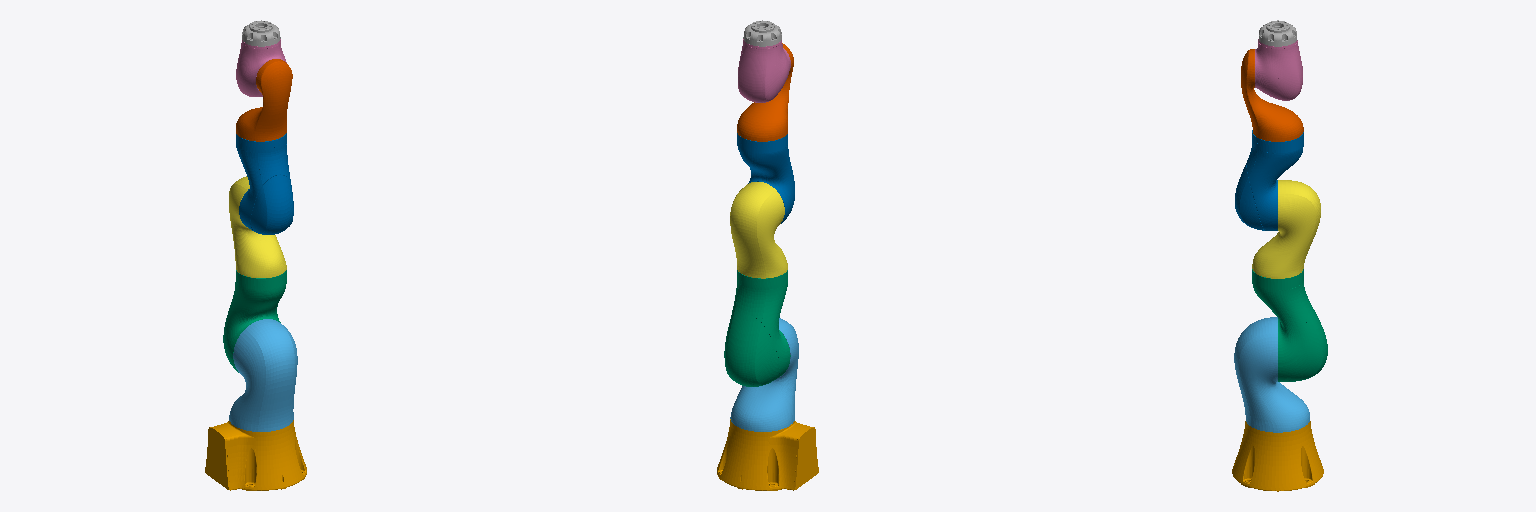
The robot description file, URDF, robot "iiwa14":
<?xml version="1.0" encoding="utf-8"?>
<robot name="iiwa14">
  <link name="link_0">
    <inertial>
      <origin rpy="0 0 0" xyz="-0.012822 0.0 0.071507"/>
      <mass value="7.050378"/>
      <inertia ixx="0.031226" ixy="0.0" ixz="0.000871" iyy="0.039697" iyz="0.0" izz="0.043102"/>
    </inertial>
    <visual>
      <origin rpy="0 0 0" xyz="0 0 0"/>
      <geometry>
        <mesh filename="meshes/visual/link_0.obj"/>
      </geometry>
    </visual>
    <collision>
      <origin rpy="0 0 0" xyz="0 0 0"/>
      <geometry>
        <mesh filename="meshes/collision/link_0.obj"/>
      </geometry>
    </collision>
  </link>
  <joint name="A1" type="revolute">
    <origin rpy="0 0 0" xyz="0.0 0.0 0.1475"/>
    <parent link="link_0"/>
    <child link="link_1"/>
    <axis xyz="0.0 0.0 1.0"/>
    <limit effort="200" lower="-2.96705972839" upper="2.96705972839" velocity="1.4835298642"/>
    <dynamics damping="10.0" friction="0.1"/>
  </joint>
  <link name="link_1">
    <inertial>
      <origin rpy="0 0 0" xyz="0.0 -0.033795 0.132404"/>
      <mass value="5.289529"/>
      <inertia ixx="0.042462" ixy="0.0" ixz="0.0" iyy="0.042838" iyz="0.006341" izz="0.01587"/>
    </inertial>
    <visual>
      <origin rpy="0 0 0" xyz="0.0 0.0 -0.1475"/>
      <geometry>
        <mesh filename="meshes/visual/link_1.obj"/>
      </geometry>
    </visual>
    <collision>
      <origin rpy="0 0 0" xyz="0.0 0.0 -0.1475"/>
      <geometry>
        <mesh filename="meshes/collision/link_1.obj"/>
      </geometry>
    </collision>
  </link>
  <joint name="A2" type="revolute">
    <origin rpy="0 0 0" xyz="0.0 -0.01 0.2125"/>
    <parent link="link_1"/>
    <child link="link_2"/>
    <axis xyz="0.0 1.0 0.0"/>
    <limit effort="200" lower="-2.09439510239" upper="2.09439510239" velocity="1.4835298642"/>
    <dynamics damping="10.0" friction="0.1"/>
  </joint>
  <link name="link_2">
    <inertial>
      <origin rpy="0 0 0" xyz="0.000136 0.047548 0.076322"/>
      <mass value="5.688888"/>
      <inertia ixx="0.055182" ixy="-3.3e-05" ixz="5.6e-05" iyy="0.053983" iyz="0.010034" izz="0.016523"/>
    </inertial>
    <visual>
      <origin rpy="0 0 0" xyz="0.0 0.01 -0.36"/>
      <geometry>
        <mesh filename="meshes/visual/link_2.obj"/>
      </geometry>
    </visual>
    <collision>
      <origin rpy="0 0 0" xyz="0.0 0.01 -0.36"/>
      <geometry>
        <mesh filename="meshes/collision/link_2.obj"/>
      </geometry>
    </collision>
  </link>
  <joint name="A3" type="revolute">
    <origin rpy="0 0 0" xyz="0.0 0.01 0.228"/>
    <parent link="link_2"/>
    <child link="link_3"/>
    <axis xyz="0.0 0.0 1.0"/>
    <limit effort="200" lower="-2.96705972839" upper="2.96705972839" velocity="1.74532925199"/>
    <dynamics damping="10.0" friction="0.1"/>
  </joint>
  <link name="link_3">
    <inertial>
      <origin rpy="0 0 0" xyz="0.0 0.034913 0.123108"/>
      <mass value="3.461245"/>
      <inertia ixx="0.02172" ixy="0.0" ixz="0.0" iyy="0.02073" iyz="-0.003845" izz="0.007701"/>
    </inertial>
    <visual>
      <origin rpy="0 0 0" xyz="0.0 0.0 -0.588"/>
      <geometry>
        <mesh filename="meshes/visual/link_3.obj"/>
      </geometry>
    </visual>
    <collision>
      <origin rpy="0 0 0" xyz="0.0 0.0 -0.588"/>
      <geometry>
        <mesh filename="meshes/collision/link_3.obj"/>
      </geometry>
    </collision>
  </link>
  <joint name="A4" type="revolute">
    <origin rpy="0 0 0" xyz="0.0 0.0105 0.192"/>
    <parent link="link_3"/>
    <child link="link_4"/>
    <axis xyz="0.0 -1.0 0.0"/>
    <limit effort="200" lower="-2.09439510239" upper="2.09439510239" velocity="1.308996939"/>
    <dynamics damping="10.0" friction="0.1"/>
  </joint>
  <link name="link_4">
    <inertial>
      <origin rpy="0 0 0" xyz="0.0 -0.039793 0.086944"/>
      <mass value="4.122995"/>
      <inertia ixx="0.03241" ixy="0.0" ixz="0.0" iyy="0.030758" iyz="-0.006022" izz="0.009883"/>
    </inertial>
    <visual>
      <origin rpy="0 0 0" xyz="0.0 -0.0105 -0.78"/>
      <geometry>
        <mesh filename="meshes/visual/link_4.obj"/>
      </geometry>
    </visual>
    <collision>
      <origin rpy="0 0 0" xyz="0.0 -0.0105 -0.78"/>
      <geometry>
        <mesh filename="meshes/collision/link_4.obj"/>
      </geometry>
    </collision>
  </link>
  <joint name="A5" type="revolute">
    <origin rpy="0 0 0" xyz="0.0 -0.0105 0.2075"/>
    <parent link="link_4"/>
    <child link="link_5"/>
    <axis xyz="0.0 0.0 1.0"/>
    <limit effort="200" lower="-2.96705972839" upper="2.96705972839" velocity="2.26892802759"/>
    <dynamics damping="10.0" friction="0.1"/>
  </joint>
  <link name="link_5">
    <inertial>
      <origin rpy="0 0 0" xyz="0.0 -0.029824 0.076267"/>
      <mass value="1.563756"/>
      <inertia ixx="0.008677" ixy="0.0" ixz="0.0" iyy="0.007297" iyz="0.002869" izz="0.003935"/>
    </inertial>
    <visual>
      <origin rpy="0 0 0" xyz="0.0 0.0 -0.9875"/>
      <geometry>
        <mesh filename="meshes/visual/link_5.obj"/>
      </geometry>
    </visual>
    <collision>
      <origin rpy="0 0 0" xyz="0.0 0.0 -0.9875"/>
      <geometry>
        <mesh filename="meshes/collision/link_5.obj"/>
      </geometry>
    </collision>
  </link>
  <joint name="A6" type="revolute">
    <origin rpy="0 0 0" xyz="0.0 -0.0707 0.1925"/>
    <parent link="link_5"/>
    <child link="link_6"/>
    <axis xyz="0.0 1.0 0.0"/>
    <limit effort="200" lower="-2.09439510239" upper="2.09439510239" velocity="2.35619449019"/>
    <dynamics damping="10.0" friction="0.1"/>
  </joint>
  <link name="link_6">
    <inertial>
      <origin rpy="0 0 0" xyz="0.0 0.07102 0.00495"/>
      <mass value="2.457878"/>
      <inertia ixx="0.007227" ixy="0.0" ixz="0.0" iyy="0.006958" iyz="0.000318" izz="0.004734"/>
    </inertial>
    <visual>
      <origin rpy="0 0 0" xyz="0.0 0.0707 -1.18"/>
      <geometry>
        <mesh filename="meshes/visual/link_6.obj"/>
      </geometry>
    </visual>
    <collision>
      <origin rpy="0 0 0" xyz="0.0 0.0707 -1.18"/>
      <geometry>
        <mesh filename="meshes/collision/link_6.obj"/>
      </geometry>
    </collision>
  </link>
  <joint name="A7" type="revolute">
    <origin rpy="0 0 0" xyz="0.0 0.0707 0.091"/>
    <parent link="link_6"/>
    <child link="link_7"/>
    <axis xyz="0.0 0.0 1.0"/>
    <limit effort="200" lower="-3.05432619099" upper="3.05432619099" velocity="2.35619449019"/>
    <dynamics damping="10.0" friction="0.1"/>
  </joint>
  <link name="link_7">
    <inertial>
      <origin rpy="0 0 0" xyz="3.0000e-06 -2.0000e-06 1.3782e-02"/>
      <mass value="0.265331"/>
      <inertia ixx="0.000175" ixy="0.0" ixz="0.0" iyy="0.000175" iyz="0.0" izz="0.000306"/>
    </inertial>
    <visual>
      <origin rpy="0 0 0" xyz="0.0 0.0 -1.271"/>
      <geometry>
        <mesh filename="meshes/visual/link_7.obj"/>
      </geometry>
    </visual>
    <collision>
      <origin rpy="0 0 0" xyz="0.0 0.0 -1.271"/>
      <geometry>
        <mesh filename="meshes/collision/link_7.obj"/>
      </geometry>
    </collision>
  </link>
  <joint name="joint_ee" type="fixed">
    <parent link="link_7"/>
    <child link="ee_link"/>
    <origin rpy="0 -1.57079 0" xyz="0 0 0.035"/>
  </joint>
  <link name="ee_link"/>
</robot>

--- Render facts (derived) ---
The picture shows the robot from 3 angles, left to right: view 1: azimuth 30°, elevation 25°; view 2: azimuth 150°, elevation 25°; view 3: azimuth 270°, elevation 25°; orthographic projection.
Robot: iiwa14 — 9 links, 8 joints (7 revolute, 1 fixed); root link link_0; default pose: all joints at 0.
Visible links, largest first — view 1: link_1, link_0, link_4, link_5, link_2, link_3, link_6, link_7; view 2: link_2, link_0, link_3, link_1, link_6, link_4, link_5, link_7; view 3: link_1, link_2, link_0, link_3, link_4, link_5, link_6, link_7.
Link boxes in pixels (x1=…): link_1: x1=229, y1=319, x2=297, y2=431; link_0: x1=205, y1=420, x2=306, y2=490; link_4: x1=236, y1=133, x2=293, y2=234; link_5: x1=236, y1=59, x2=292, y2=141; link_2: x1=223, y1=270, x2=286, y2=372; link_3: x1=229, y1=176, x2=286, y2=277; link_6: x1=236, y1=39, x2=286, y2=96; link_7: x1=242, y1=20, x2=280, y2=46; link_2: x1=724, y1=270, x2=790, y2=386; link_0: x1=717, y1=419, x2=818, y2=490; link_3: x1=730, y1=182, x2=787, y2=278; link_1: x1=730, y1=318, x2=798, y2=431; link_6: x1=738, y1=39, x2=790, y2=102; link_4: x1=737, y1=133, x2=794, y2=223; link_5: x1=737, y1=43, x2=793, y2=141; link_7: x1=743, y1=20, x2=781, y2=46; link_1: x1=1234, y1=317, x2=1309, y2=432; link_2: x1=1252, y1=269, x2=1327, y2=381; link_0: x1=1232, y1=421, x2=1323, y2=491; link_3: x1=1252, y1=180, x2=1320, y2=278; link_4: x1=1235, y1=130, x2=1303, y2=230; link_5: x1=1241, y1=49, x2=1303, y2=141; link_6: x1=1255, y1=39, x2=1302, y2=100; link_7: x1=1259, y1=20, x2=1296, y2=46.
Size in the robot's own frame: 0.2575 by 0.2536 by 1.31 metres.
Meshes: 8 distinct files referenced, 8 mesh visuals loaded (8 OBJ).